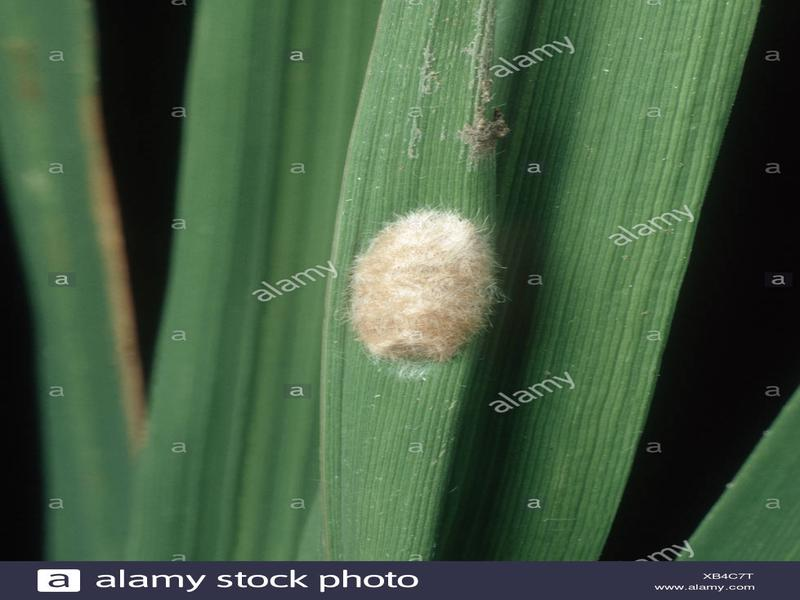Paddy_stemborer: (309, 177, 541, 406)
